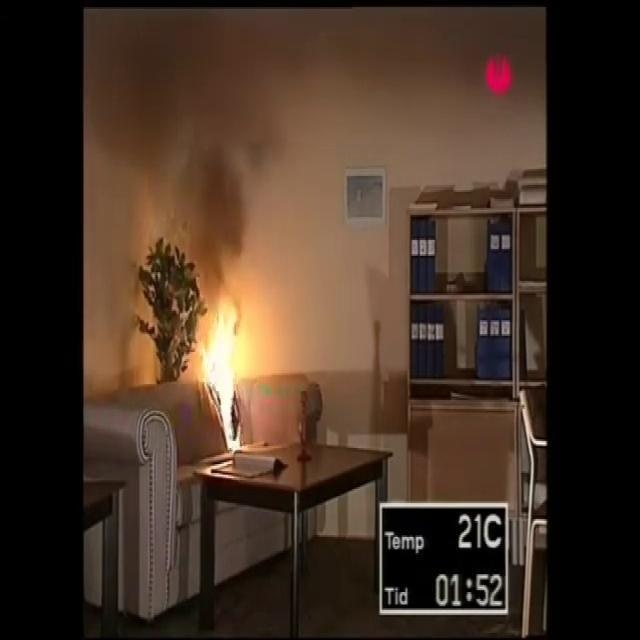fire: (202, 311, 242, 408)
